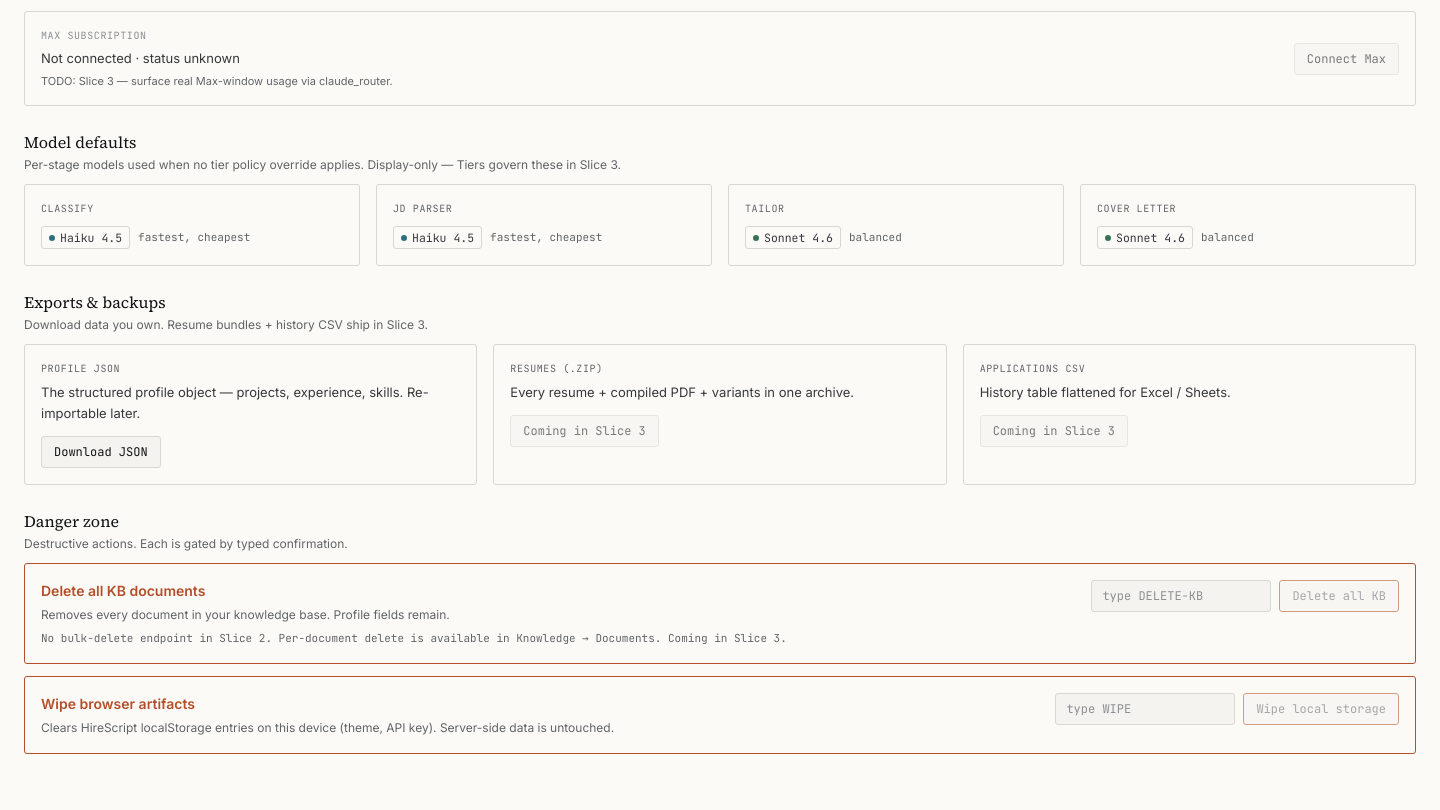
Test: Settings route › exports: failed profile fetch surfaces an error message
(page scrolled)
Click the button with test id "settings-export-profile": (101, 452) [41,436,161,468]
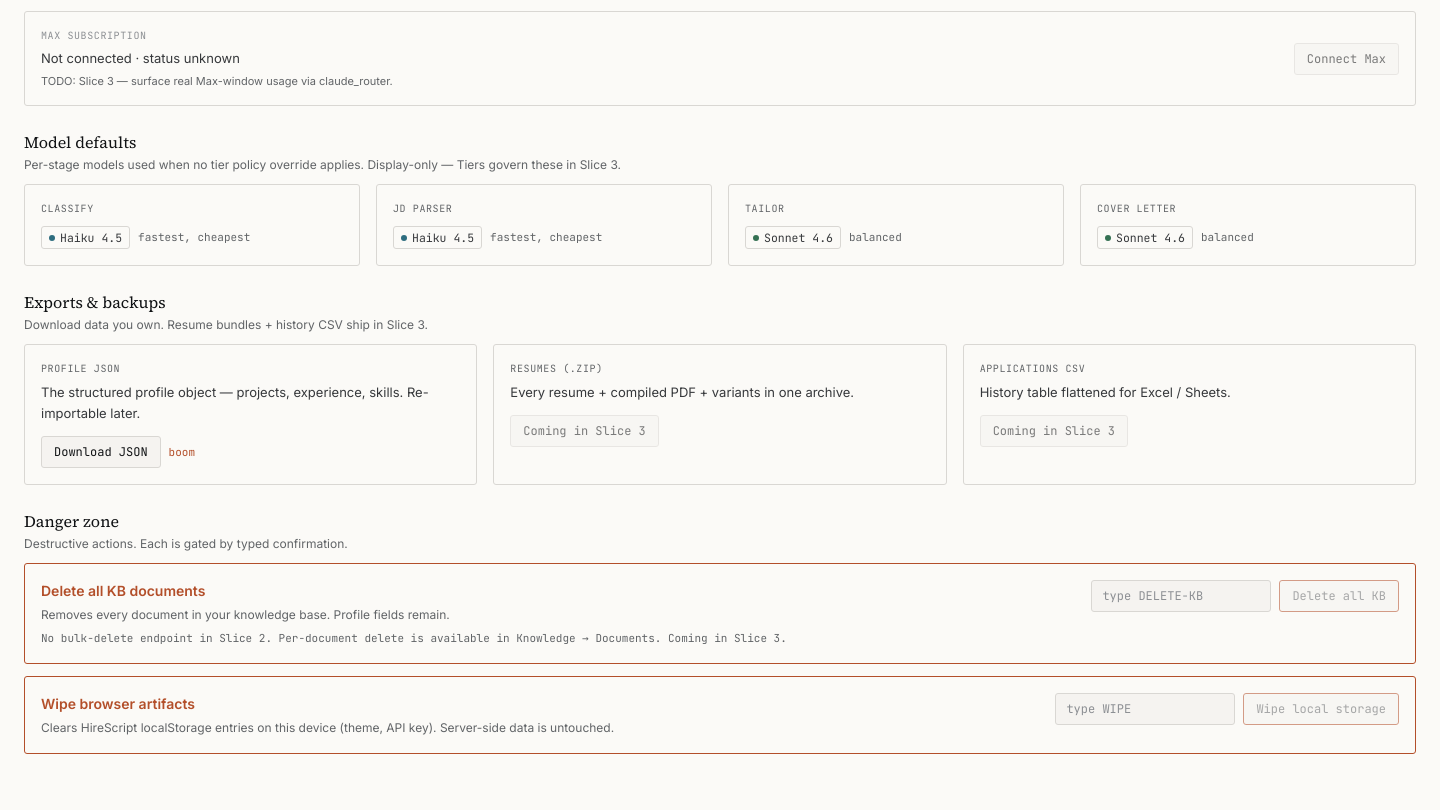
expect the text with test id "settings-export-profile-error" reads "boom": met, box [169,445,195,459]
